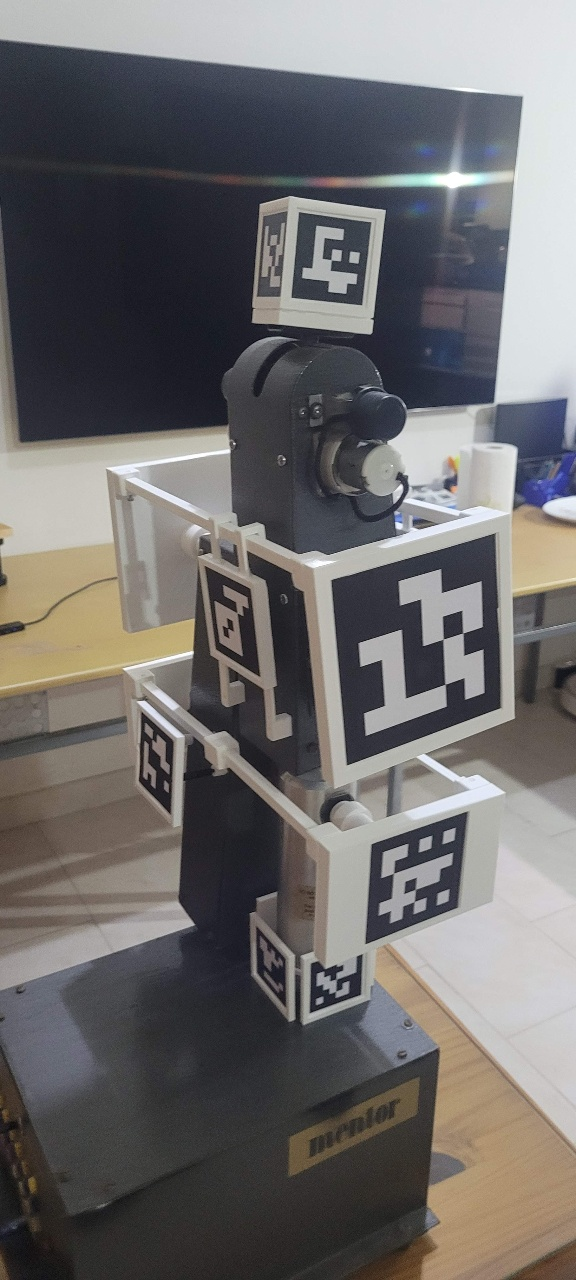Robot: (40, 200, 451, 998)
